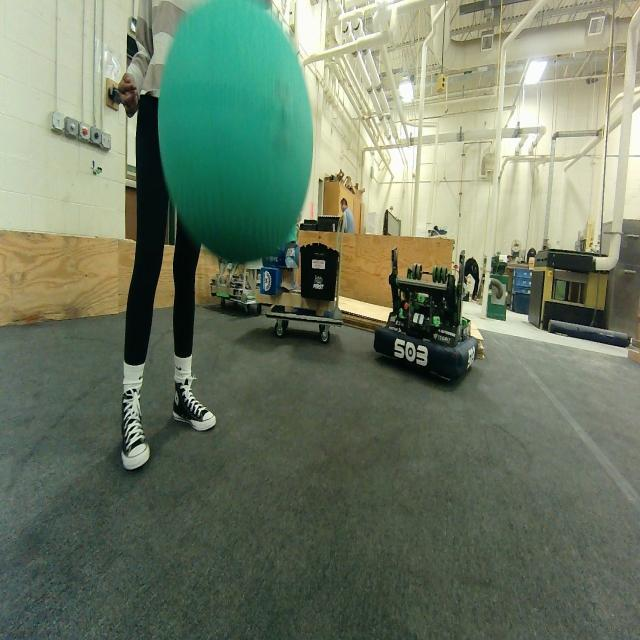algae: (159, 0, 313, 263)
